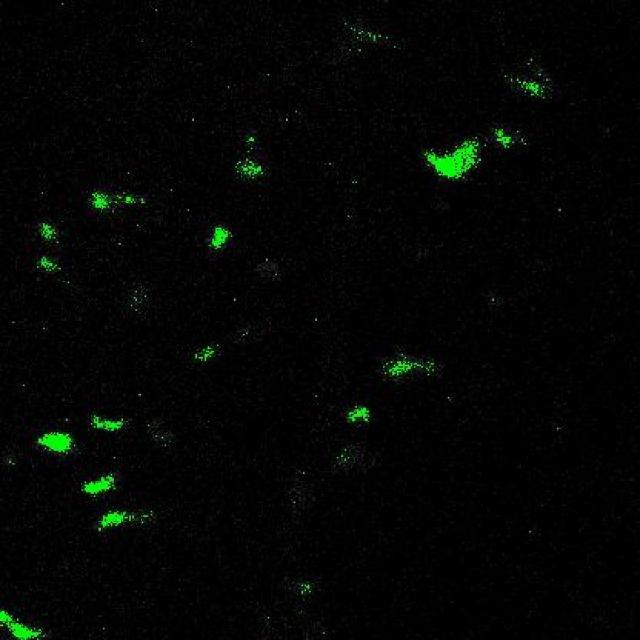Cell: (431, 151, 476, 175), (0, 618, 43, 640), (44, 434, 74, 457), (84, 479, 114, 494), (93, 416, 123, 431), (210, 228, 234, 246), (349, 406, 372, 424), (39, 224, 58, 240), (92, 193, 110, 207)
